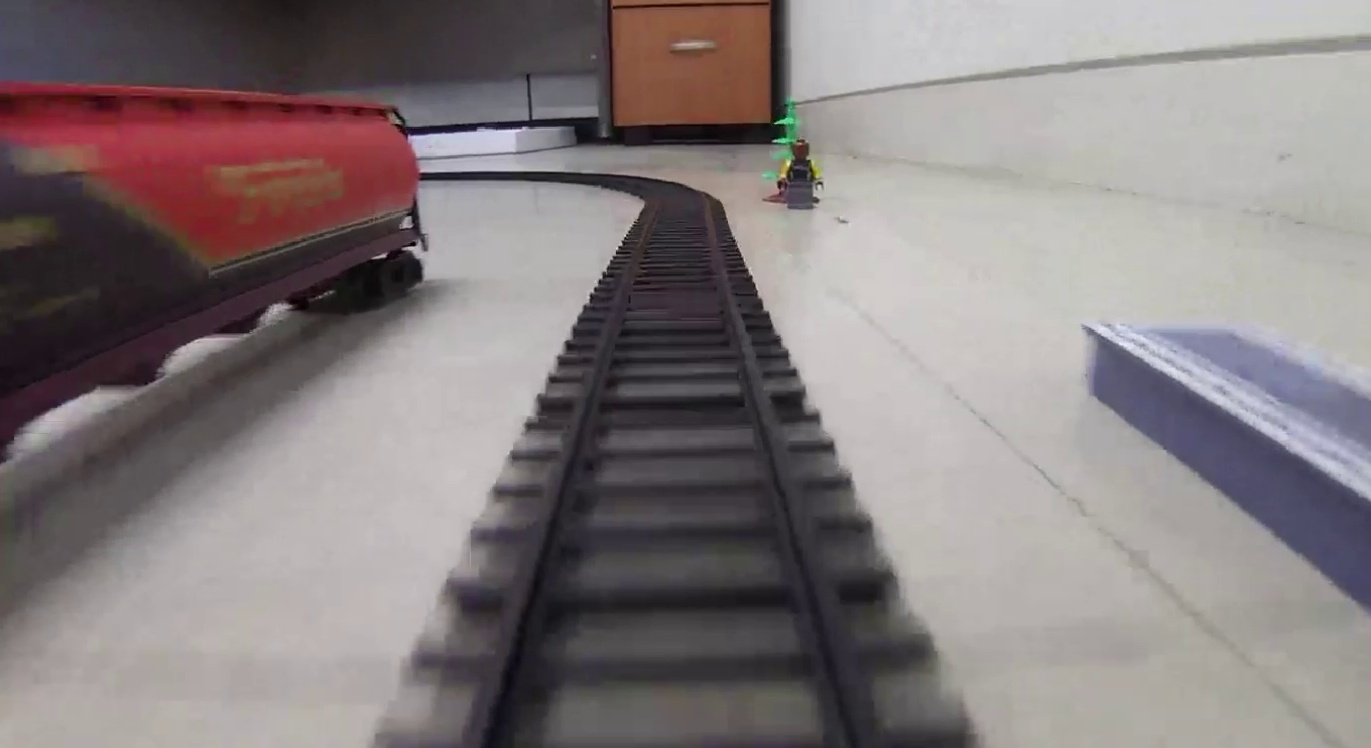people: (779, 138, 822, 210)
